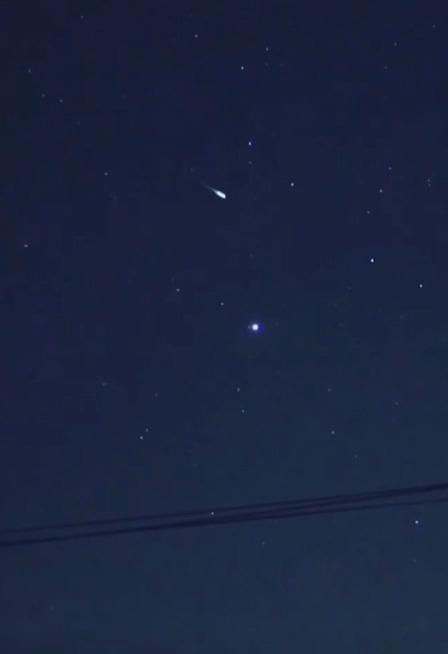meteorite: (177, 174, 240, 207)
